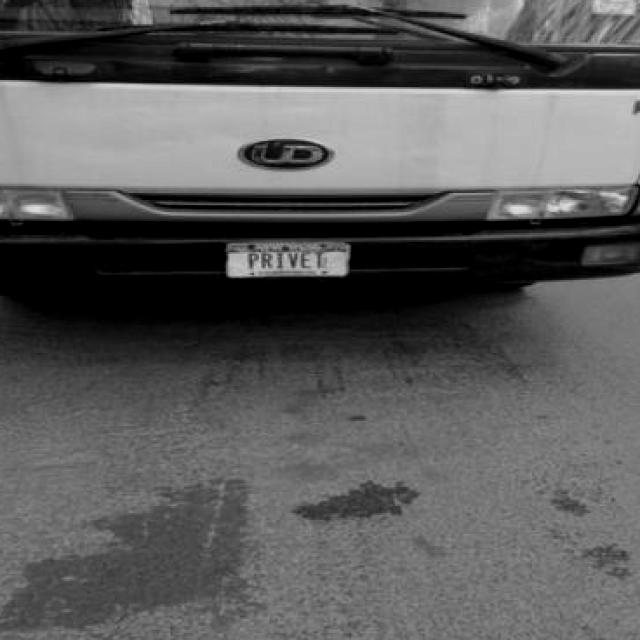licenseplate: (219, 239, 353, 279)
